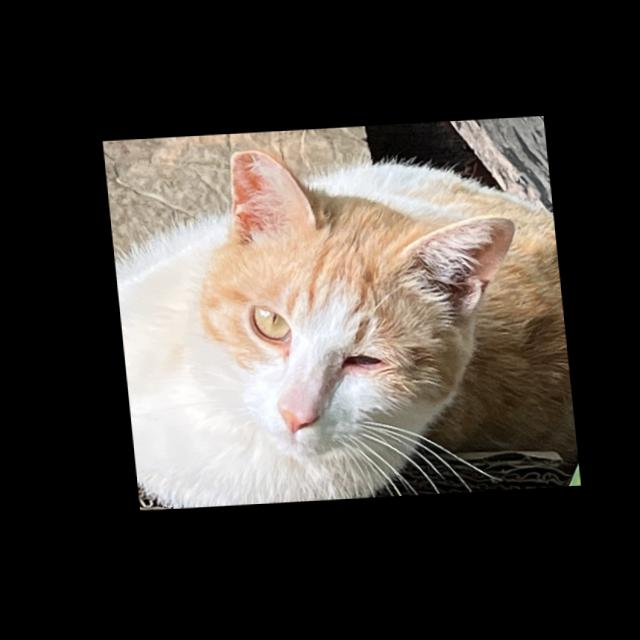animals: (164, 124, 529, 468)
